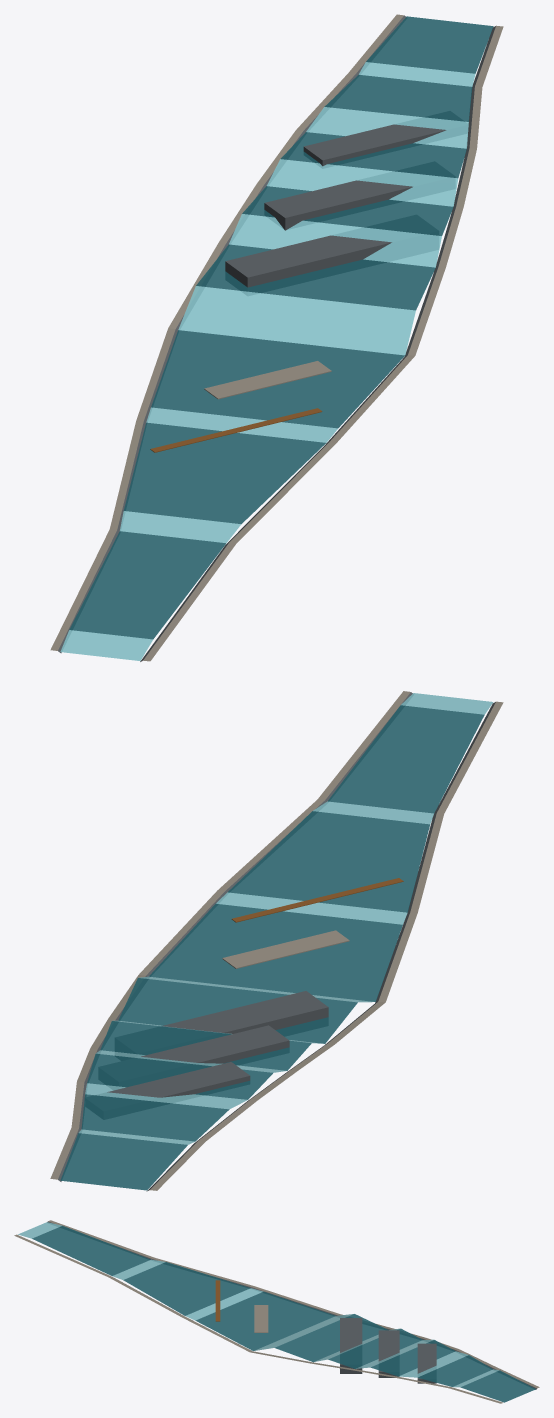
The model's file is water_thac_pongour_duc_trong.glb.
3 views of the same model, one above another, from view 1: azimuth 30°, elevation 25°; view 2: azimuth 210°, elevation 25°; view 3: azimuth 270°, elevation 25° (orthographic). The views are drawn at different scales.
Parts seen in each view (by area): view 1: water_terraces_water_thac_pongour_duc_trong, waterfall_curtain_water_thac_pongour_duc_trong, canyon_walkway_water_thac_pongour_duc_trong, pongour_amphitheater_tier57_basalt_ledge, pongour_amphitheater_tier34_basalt_ledge, basalt_canyon_embankments_water_thac_pongour_duc_trong, pongour_amphitheater_tier12_basalt_ledge, pongour_fairy_rock_stepping_promenade, pongour_downstream_wooden_footbridge; view 2: water_terraces_water_thac_pongour_duc_trong, canyon_walkway_water_thac_pongour_duc_trong, waterfall_curtain_water_thac_pongour_duc_trong, pongour_amphitheater_tier57_basalt_ledge, pongour_amphitheater_tier34_basalt_ledge, basalt_canyon_embankments_water_thac_pongour_duc_trong, pongour_amphitheater_tier12_basalt_ledge, pongour_fairy_rock_stepping_promenade, pongour_downstream_wooden_footbridge; view 3: water_terraces_water_thac_pongour_duc_trong, waterfall_curtain_water_thac_pongour_duc_trong, canyon_walkway_water_thac_pongour_duc_trong, pongour_amphitheater_tier57_basalt_ledge, pongour_amphitheater_tier34_basalt_ledge, pongour_amphitheater_tier12_basalt_ledge, pongour_fairy_rock_stepping_promenade, basalt_canyon_embankments_water_thac_pongour_duc_trong, pongour_downstream_wooden_footbridge.
Part boxes in pixels (bbox=[...]): water_terraces_water_thac_pongour_duc_trong: bbox=[69, 16, 493, 639]; waterfall_curtain_water_thac_pongour_duc_trong: bbox=[60, 62, 475, 660]; canyon_walkway_water_thac_pongour_duc_trong: bbox=[50, 14, 503, 661]; pongour_amphitheater_tier57_basalt_ledge: bbox=[225, 235, 392, 287]; pongour_amphitheater_tier34_basalt_ledge: bbox=[264, 180, 413, 230]; basalt_canyon_embankments_water_thac_pongour_duc_trong: bbox=[58, 15, 495, 661]; pongour_amphitheater_tier12_basalt_ledge: bbox=[303, 124, 469, 166]; pongour_fairy_rock_stepping_promenade: bbox=[204, 361, 331, 399]; pongour_downstream_wooden_footbridge: bbox=[150, 408, 322, 452]; water_terraces_water_thac_pongour_duc_trong: bbox=[60, 705, 484, 1190]; canyon_walkway_water_thac_pongour_duc_trong: bbox=[50, 691, 503, 1190]; waterfall_curtain_water_thac_pongour_duc_trong: bbox=[79, 693, 493, 1144]; pongour_amphitheater_tier57_basalt_ledge: bbox=[162, 991, 328, 1033]; pongour_amphitheater_tier34_basalt_ledge: bbox=[141, 1025, 289, 1063]; basalt_canyon_embankments_water_thac_pongour_duc_trong: bbox=[58, 692, 495, 1191]; pongour_amphitheater_tier12_basalt_ledge: bbox=[107, 1062, 250, 1097]; pongour_fairy_rock_stepping_promenade: bbox=[222, 930, 349, 968]; pongour_downstream_wooden_footbridge: bbox=[231, 878, 403, 922]; water_terraces_water_thac_pongour_duc_trong: bbox=[32, 1225, 535, 1402]; waterfall_curtain_water_thac_pongour_duc_trong: bbox=[18, 1222, 498, 1387]; canyon_walkway_water_thac_pongour_duc_trong: bbox=[14, 1220, 539, 1403]; pongour_amphitheater_tier57_basalt_ledge: bbox=[340, 1318, 362, 1373]; pongour_amphitheater_tier34_basalt_ledge: bbox=[378, 1330, 399, 1377]; pongour_amphitheater_tier12_basalt_ledge: bbox=[417, 1343, 436, 1383]; pongour_fairy_rock_stepping_promenade: bbox=[254, 1305, 268, 1332]; basalt_canyon_embankments_water_thac_pongour_duc_trong: bbox=[47, 1221, 536, 1389]; pongour_downstream_wooden_footbridge: bbox=[215, 1280, 220, 1321].
Size of the model in its own units: 604 by 48.45 by 609.
